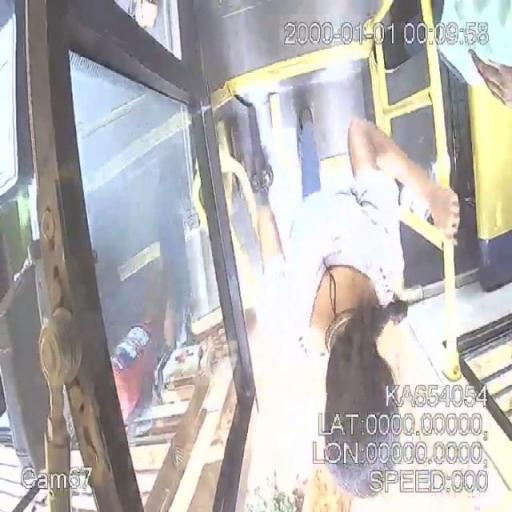persona: (287, 116, 461, 500)
